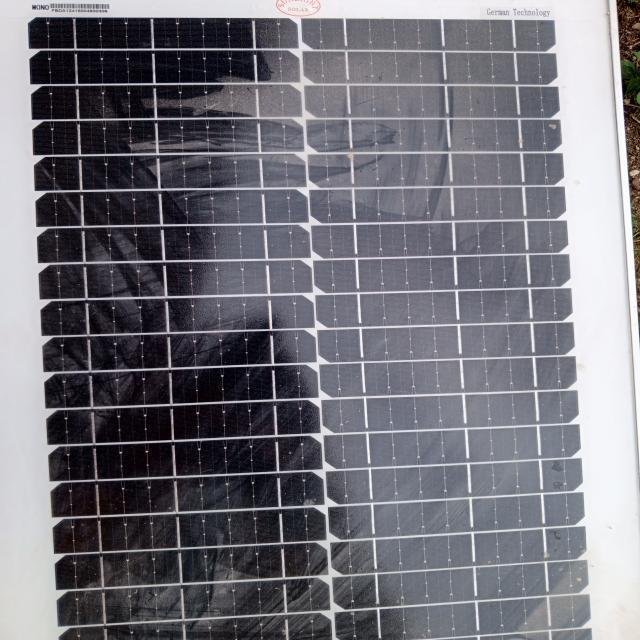Surface Contaminant: (28, 5, 593, 639)
